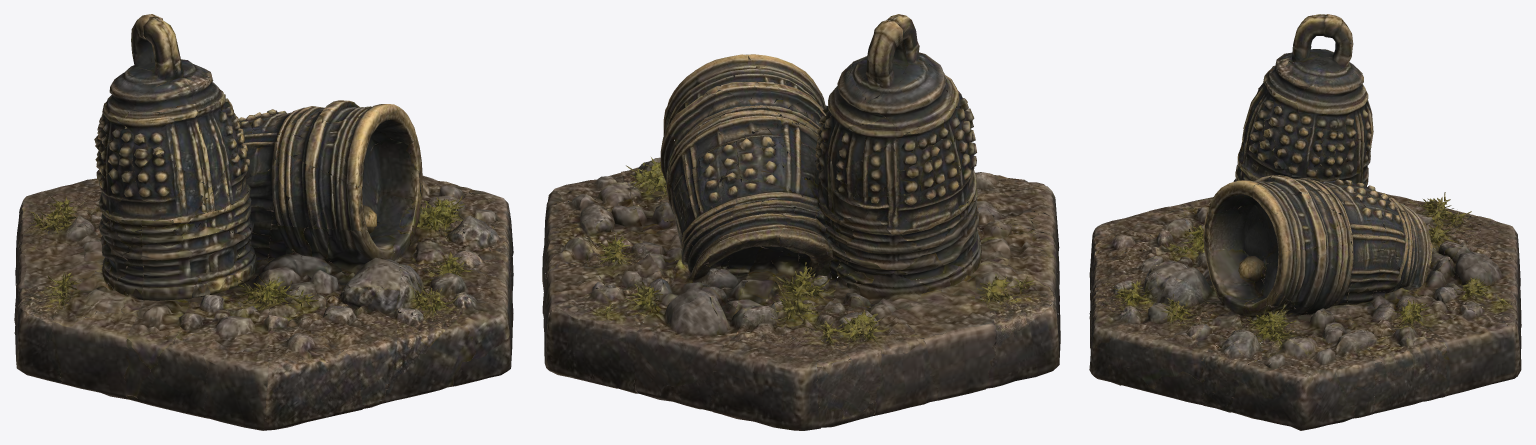
File: campane.glb
3 renders of one model, left to right at view 1: azimuth 30°, elevation 25°; view 2: azimuth 150°, elevation 25°; view 3: azimuth 270°, elevation 25°, orthographic. The views are drawn at different scales.
Parts seen in each view (by area): view 1: Mesh_0; view 2: Mesh_0; view 3: Mesh_0.
Part boxes in pixels (box(x1,y1,x2,y2)): Mesh_0: box(14, 14, 513, 430); Mesh_0: box(542, 14, 1060, 430); Mesh_0: box(1089, 14, 1521, 430).
Size of the model in its own units: 1.9 by 1.16 by 1.67.
1 material, 1 textured.
